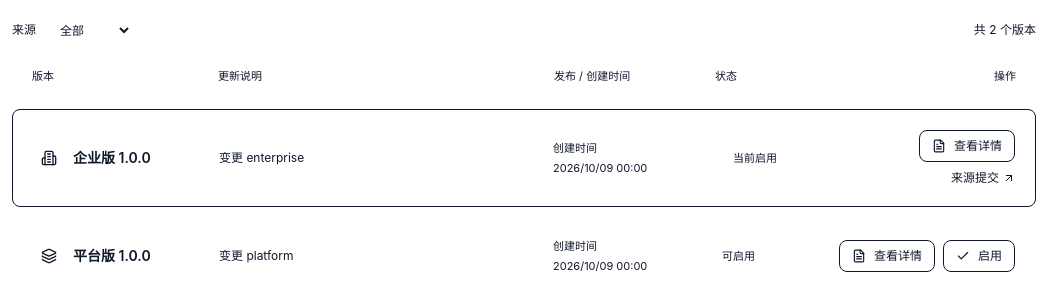
发布版本 › 来源筛选和授权来源深链接可定位具体提交
Select "平台" in the dropdown named "版本来源" at x=88, y=30, box [44,12,132,48]
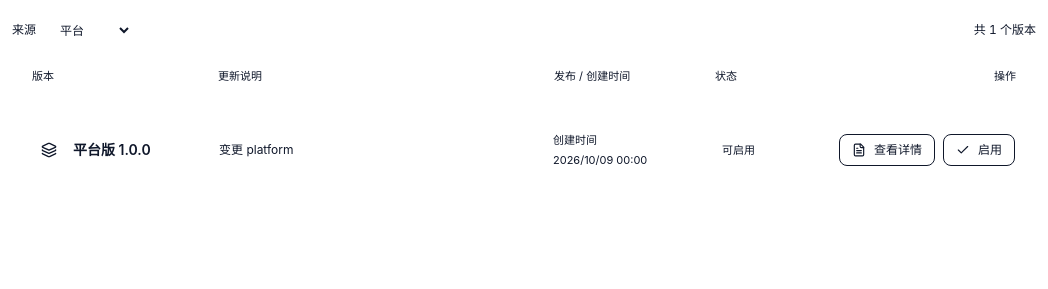
Result: the number of list items is 1 at [41,132,1015,166]
Result: the text "企业版 1.0.0" is gone
